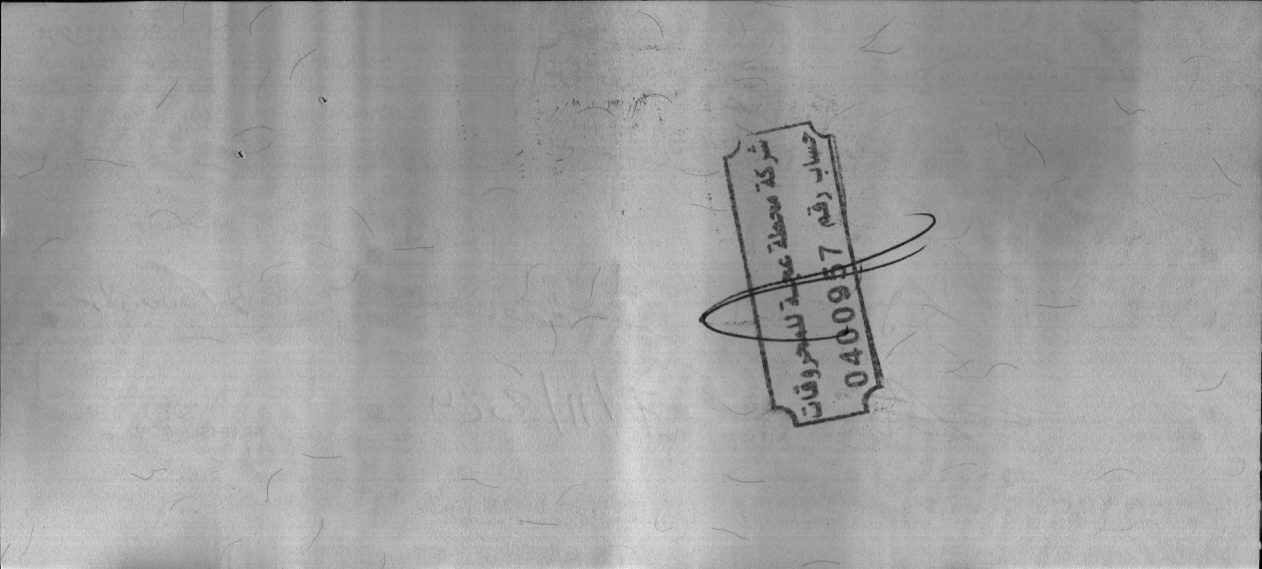stamp: (721, 118, 888, 432)
